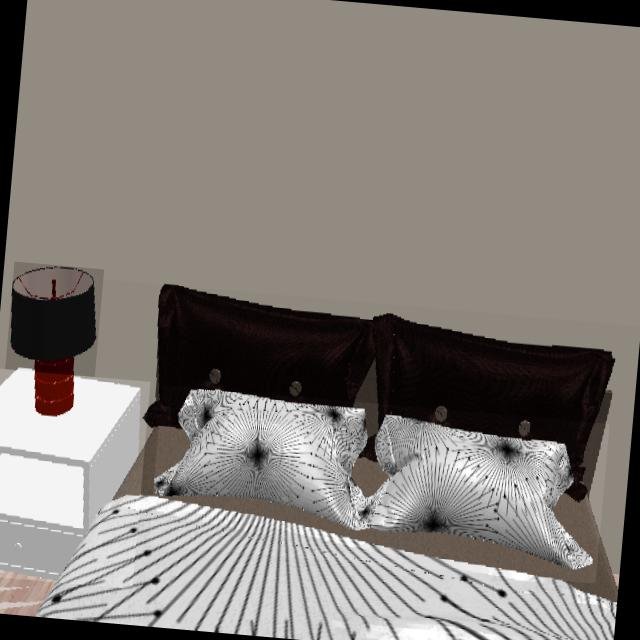bed: (36, 285, 618, 640)
lamp: (9, 265, 98, 417)
nighttable: (0, 370, 146, 581)
pillow: (152, 388, 597, 583)
